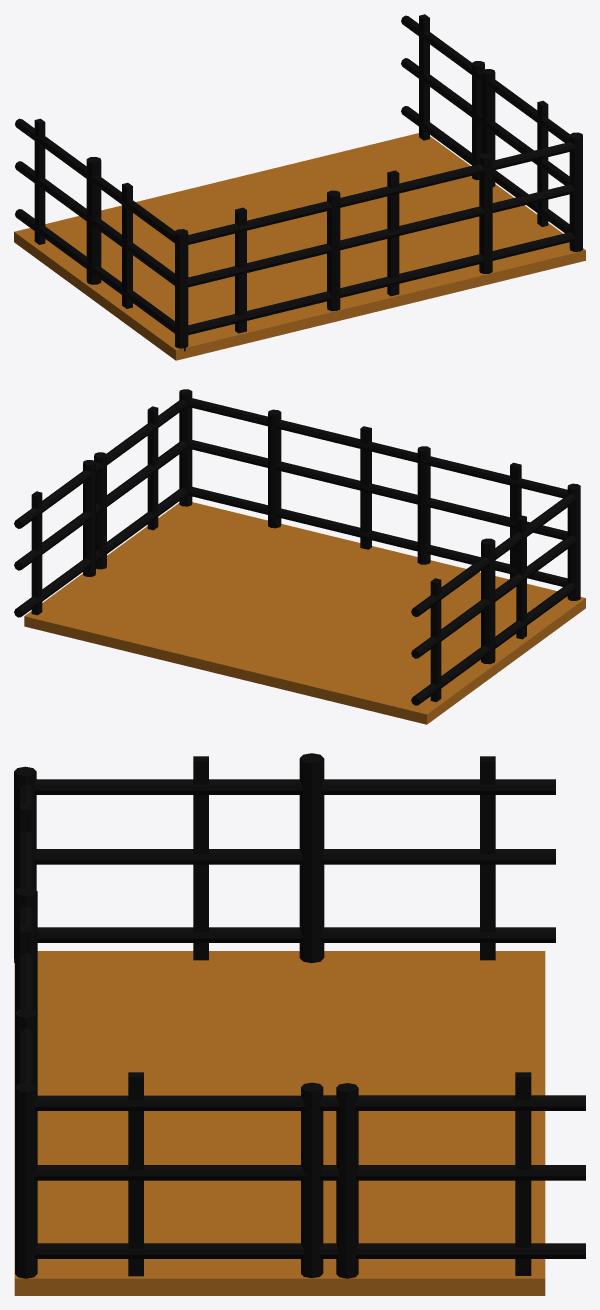
Rendered from Balcony02_house5.obj.
3 renders of one model, top to bottom at view 1: azimuth 30°, elevation 25°; view 2: azimuth 150°, elevation 25°; view 3: azimuth 270°, elevation 25°, orthographic. The views are drawn at different scales.
Visible parts, largest first — view 1: Balcony02_House05_Cylinder.004; view 2: Balcony02_House05_Cylinder.004; view 3: Balcony02_House05_Cylinder.004.
Boxes of the visible parts, left/top/right/bottom form: Balcony02_House05_Cylinder.004: left=14, top=14, right=585, bottom=360; Balcony02_House05_Cylinder.004: left=14, top=389, right=585, bottom=724; Balcony02_House05_Cylinder.004: left=14, top=753, right=585, bottom=1295.
Size of the model in its own units: 6.09 by 1.88 by 4.49.
